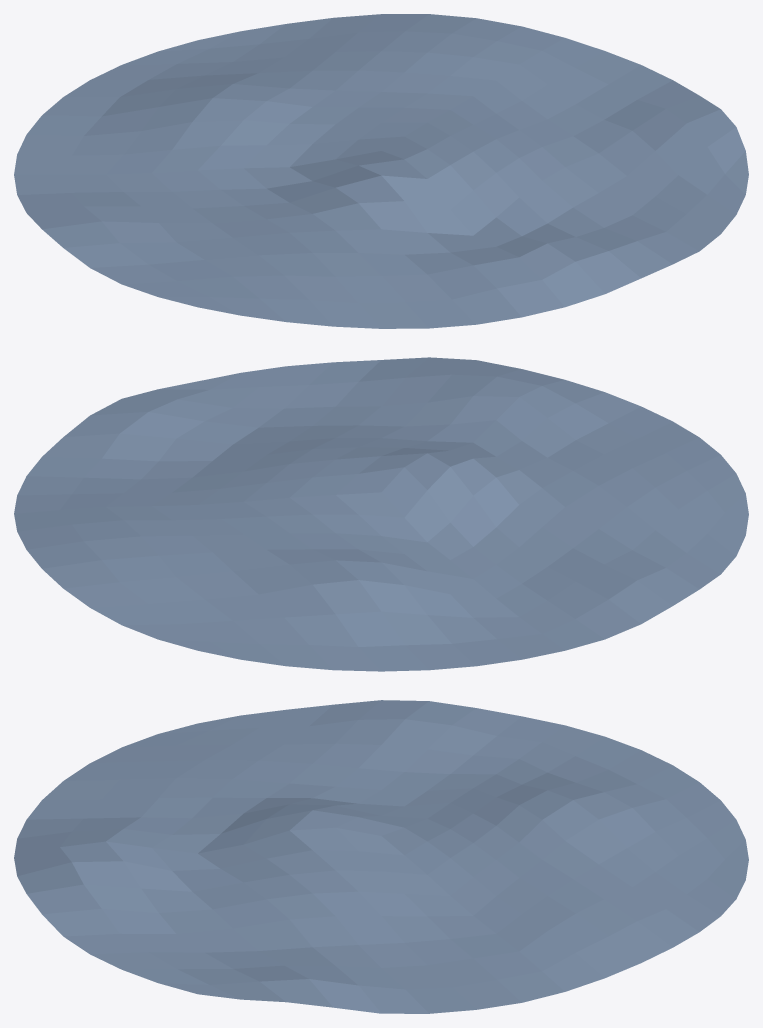
Rendered from a_hub_lake.fbx.
3 renders of one model, top to bottom at view 1: azimuth 30°, elevation 25°; view 2: azimuth 150°, elevation 25°; view 3: azimuth 270°, elevation 25°, orthographic.
Visible parts, largest first — view 1: a_hub_lake; view 2: a_hub_lake; view 3: a_hub_lake.
Part boxes in pixels (x1,y1,x2,y2): a_hub_lake: (14,14,748,328); a_hub_lake: (14,357,748,671); a_hub_lake: (14,700,748,1013).
Bounding box in the file's own units: 1184 × 62.33 × 1184.
